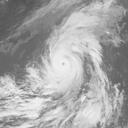cyclone: (49, 46, 83, 86)
